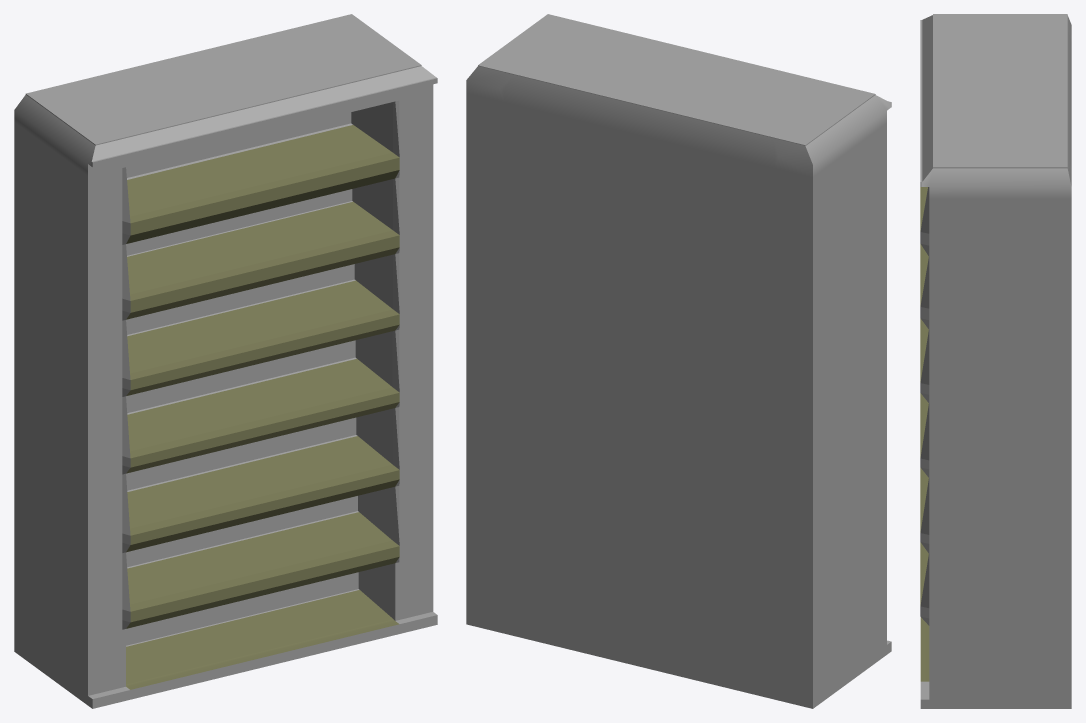
Rendered from bookshelf_v02.fbx.
The picture shows the model from 3 angles, left to right: view 1: azimuth 30°, elevation 25°; view 2: azimuth 150°, elevation 25°; view 3: azimuth 270°, elevation 25°; orthographic projection. The views are drawn at different scales.
Visible parts, largest first — view 1: pCube1; view 2: pCube1; view 3: pCube1.
Boxes of the visible parts, bbox=[...] form: pCube1: bbox=[14, 14, 437, 708]; pCube1: bbox=[466, 14, 891, 708]; pCube1: bbox=[920, 14, 1071, 708].
Size of the model in its own units: 24 by 37.04 by 9.44.
